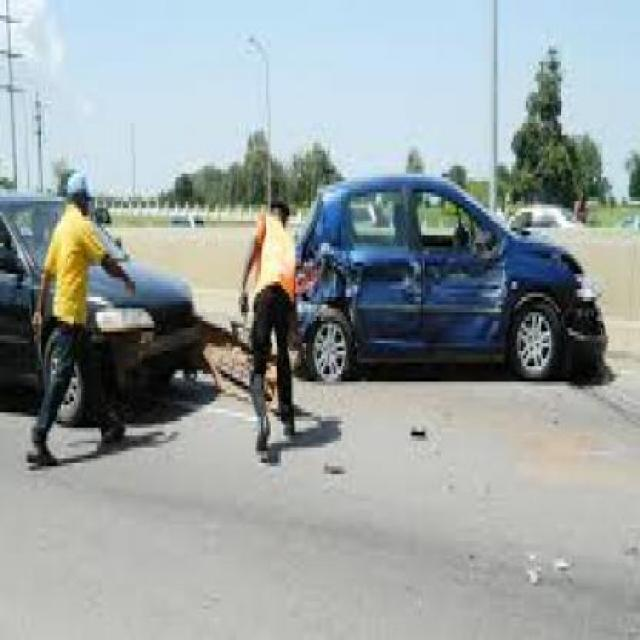accident: (275, 166, 640, 417)
